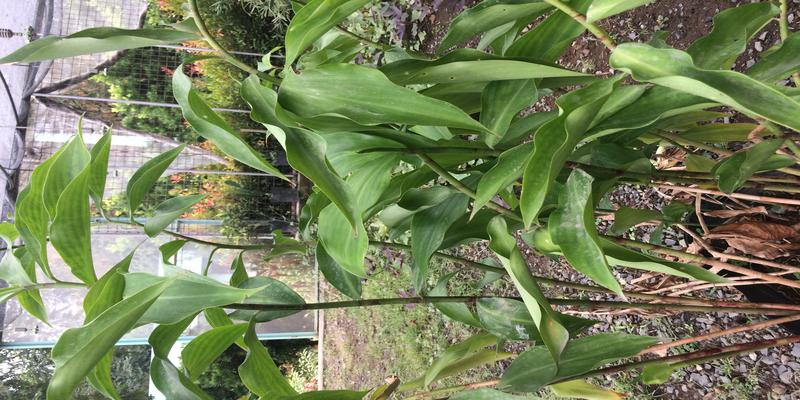Insulin: (276, 84, 785, 373)
